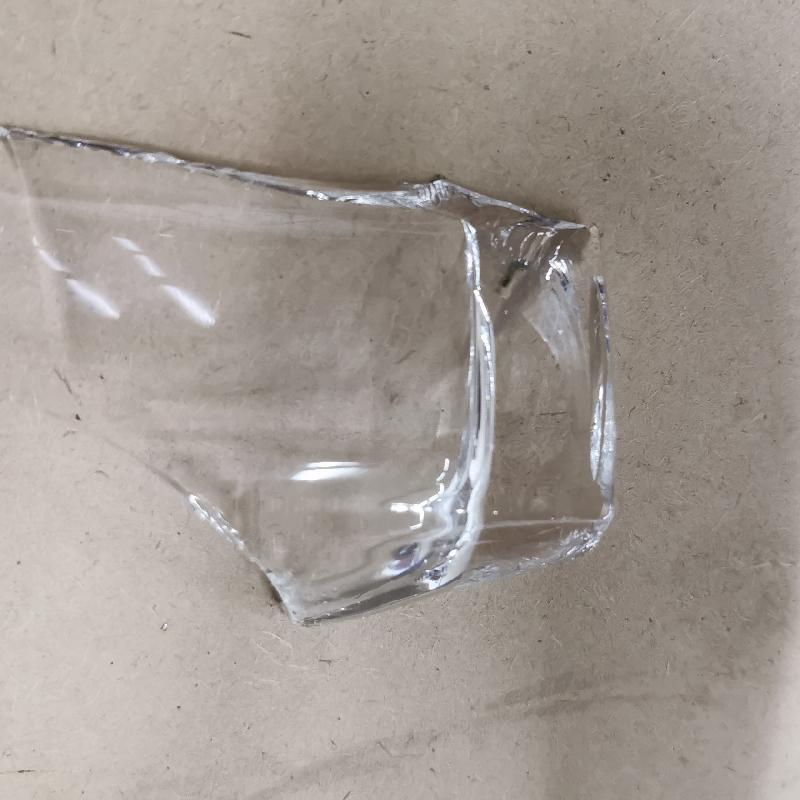glass: (3, 117, 615, 624)
